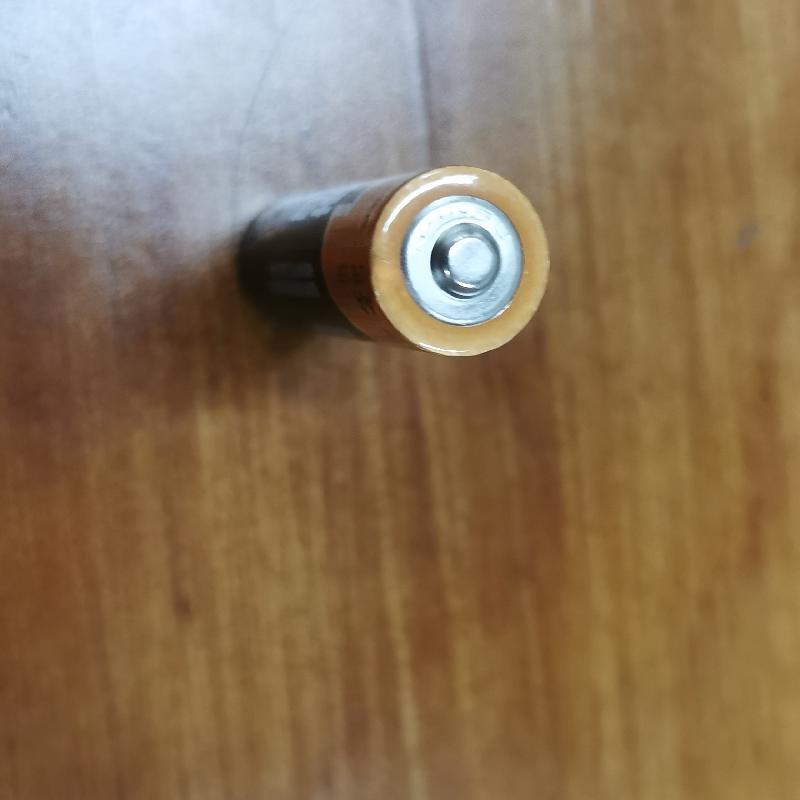battery: (226, 157, 555, 362)
